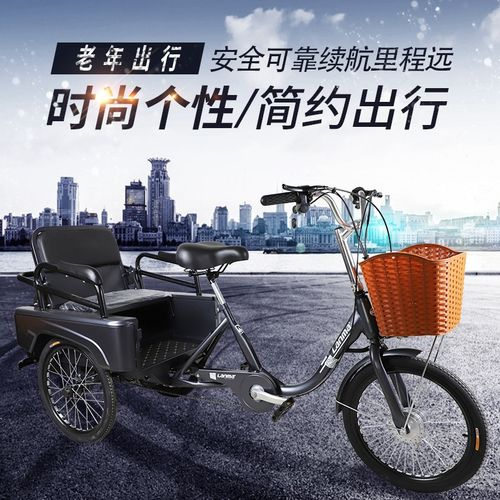empty: (19, 179, 497, 487)
